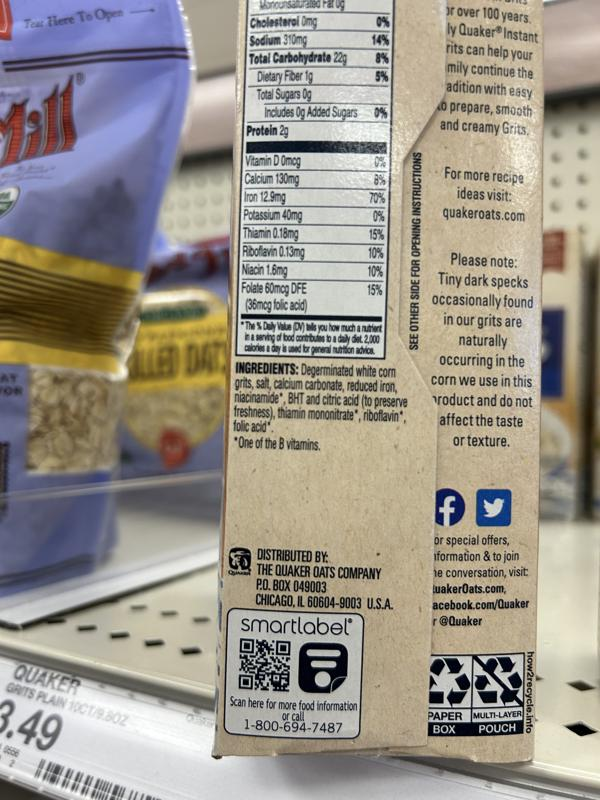ingredients: (232, 359, 416, 435)
